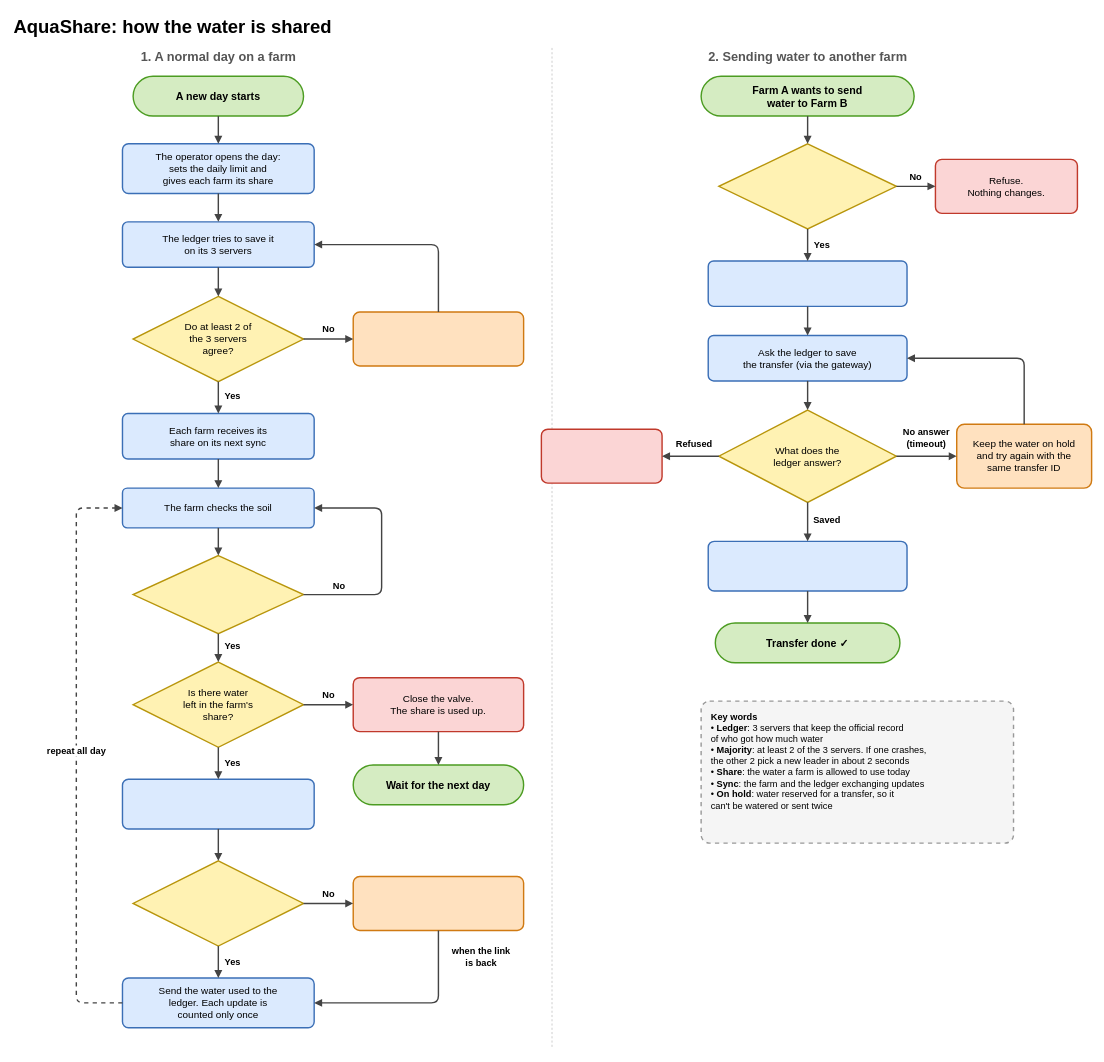
The diagram is 1104 pixels wide and 1062 high, and some of its shapes have lost their labels. The shapes that lost their labels are listed below. From the top down, each one's centre as x and y in pixels, then its label:
pixel 807 186: Does Farm A have enough water left?
pixel 807 283: Put the water on hold at Farm A (it can't be used twice)
pixel 438 338: Wait and try again. Nothing is saved yet.
pixel 601 456: Give the water back to Farm A
pixel 807 565: Confirm: Farm A loses the water, Farm B gets it on its next sync
pixel 218 594: Is the soil dry?
pixel 218 803: Open the valve and water the field. Write it down in the farm's own journal
pixel 218 903: Is the farm connected to the network?
pixel 438 903: Keep the updates on the farm and send them later
